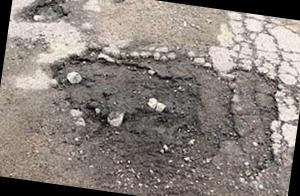pothole: (20, 32, 276, 196), (8, 0, 83, 35)
